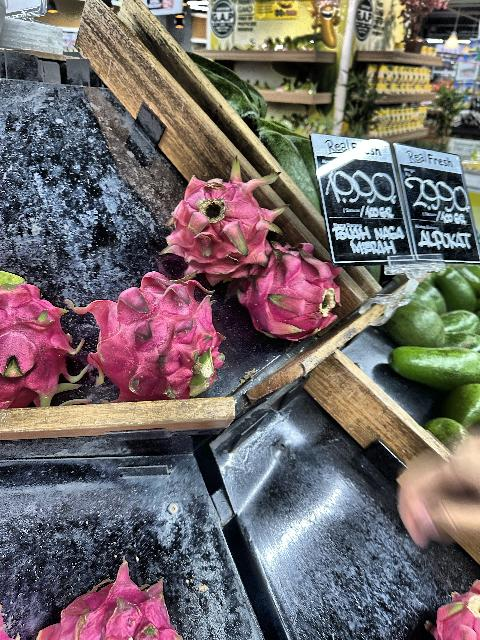buah-naga-matang: (1, 260, 92, 422), (80, 284, 214, 388), (166, 181, 280, 271), (255, 261, 350, 343)
